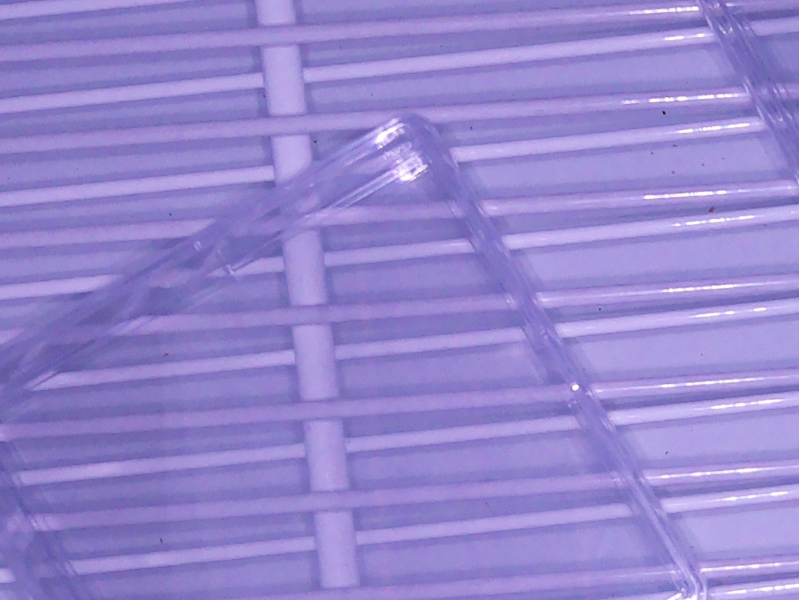plate: (1, 110, 711, 600), (696, 1, 799, 181)
